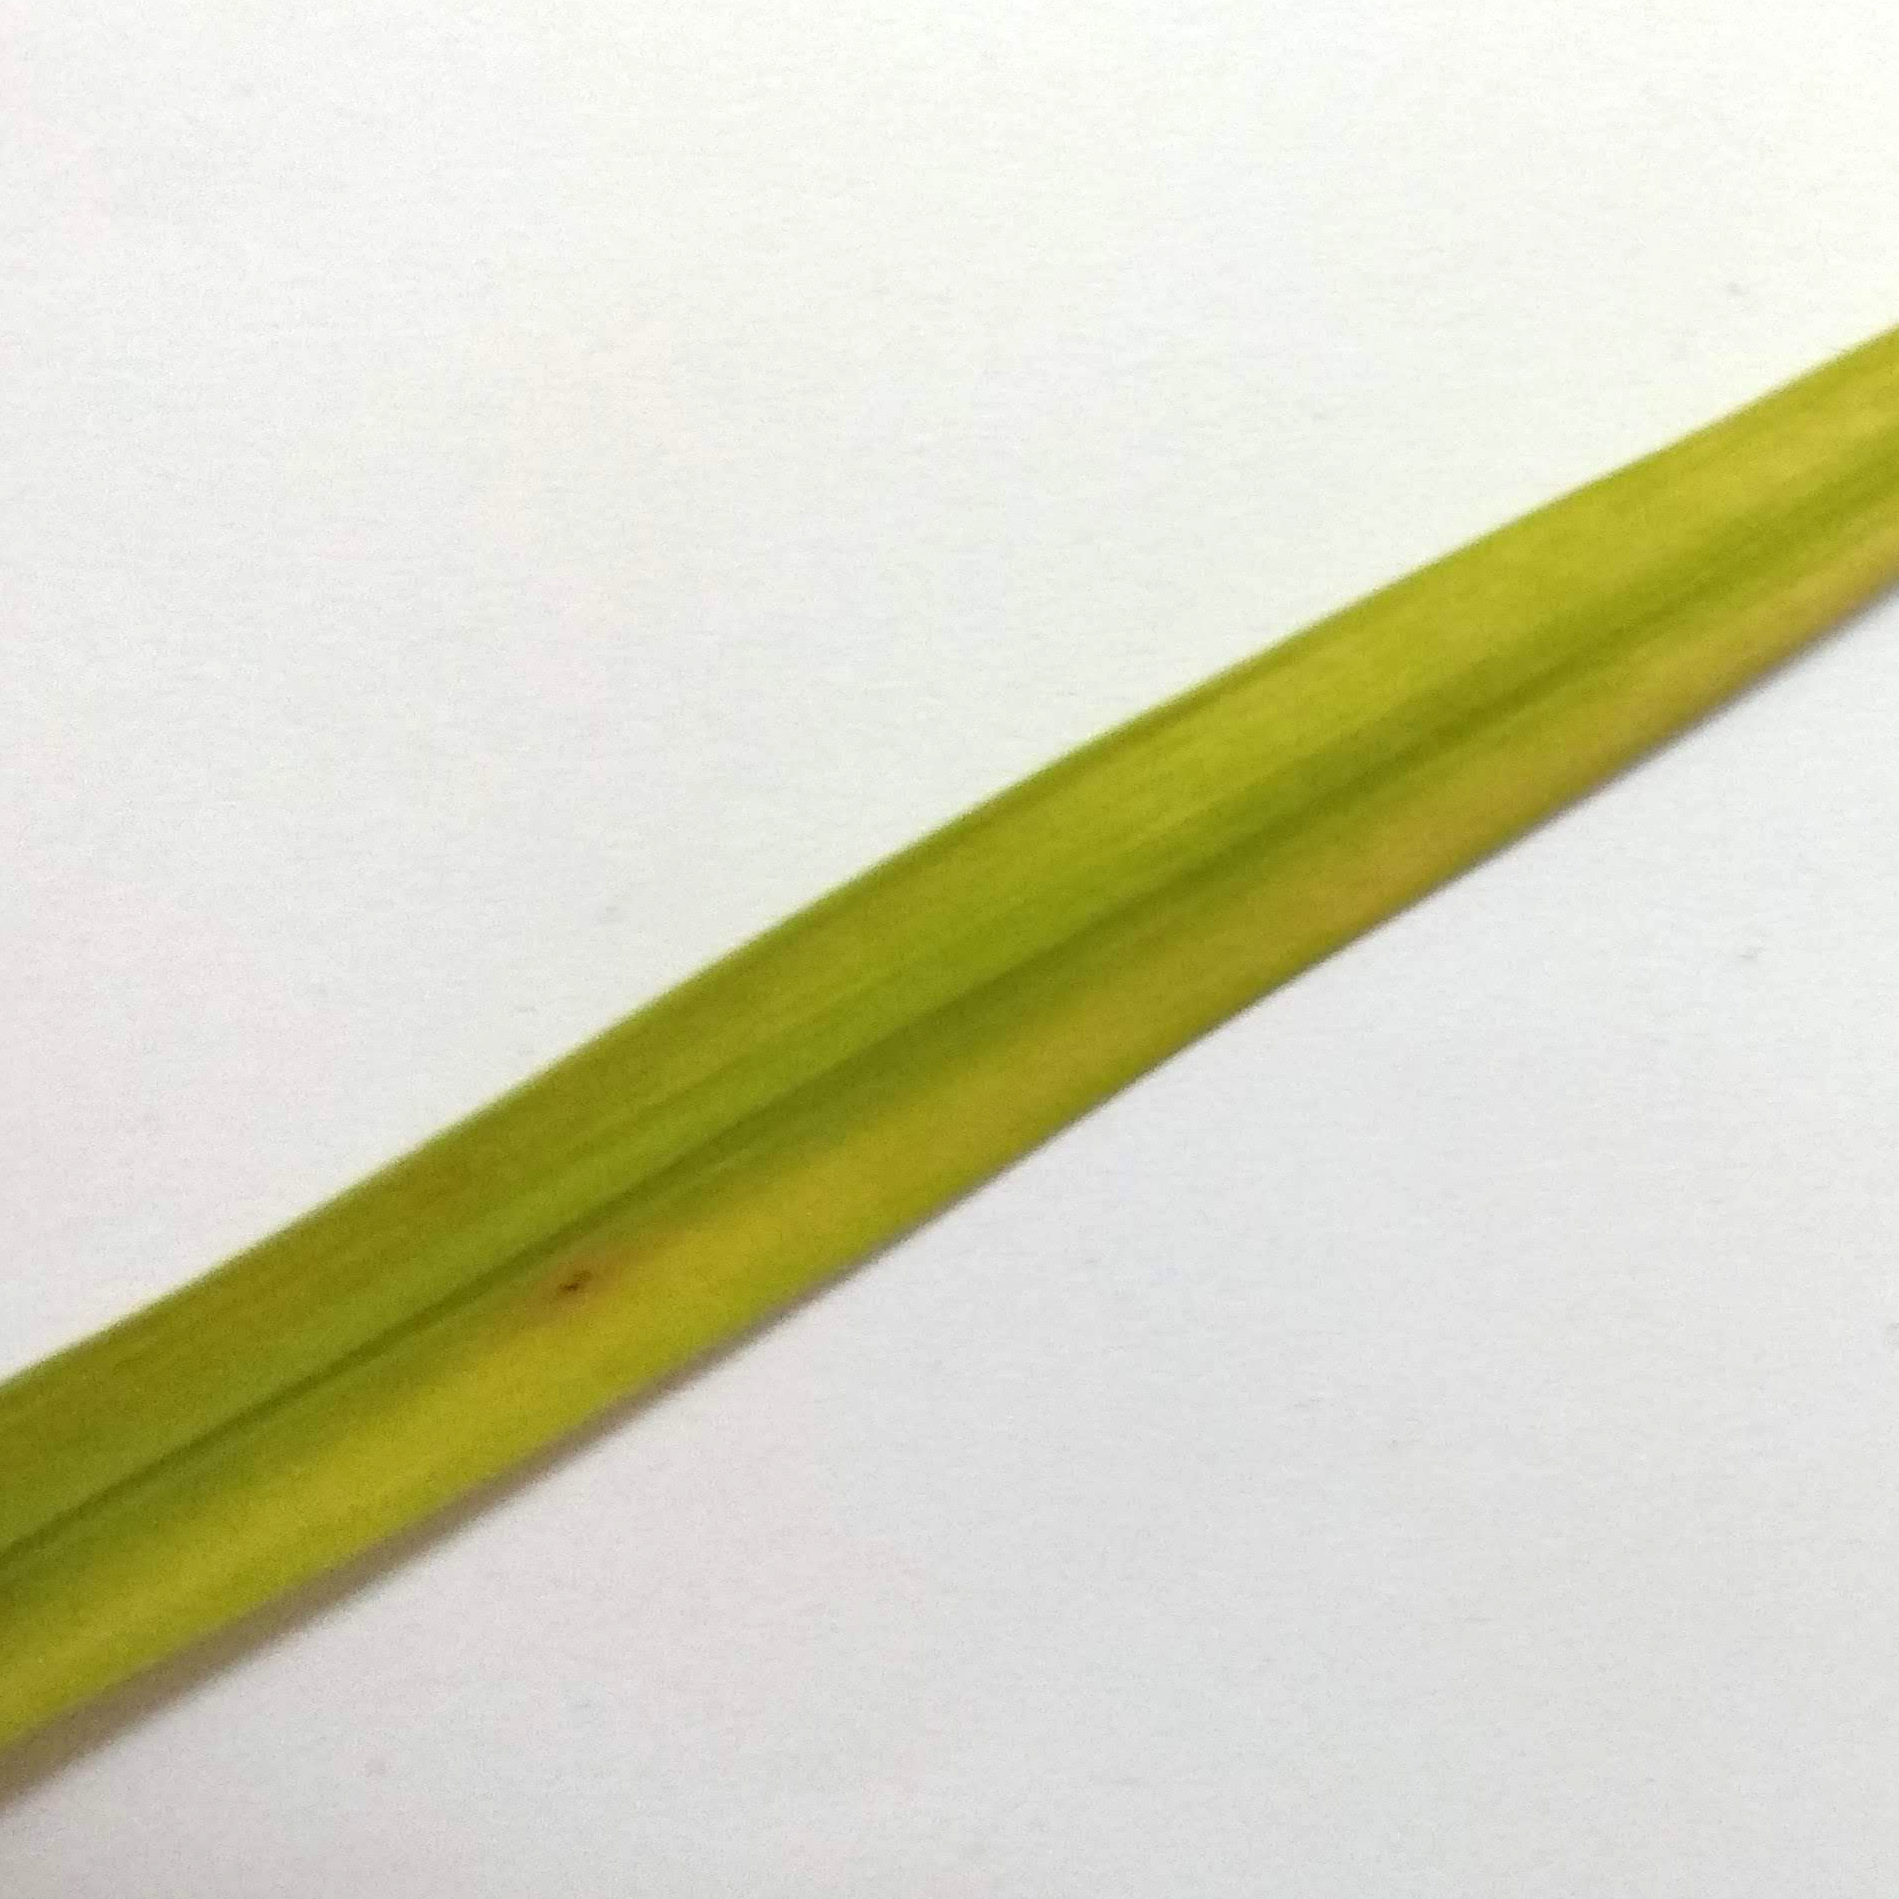brown spot: (537, 1254, 612, 1308)
